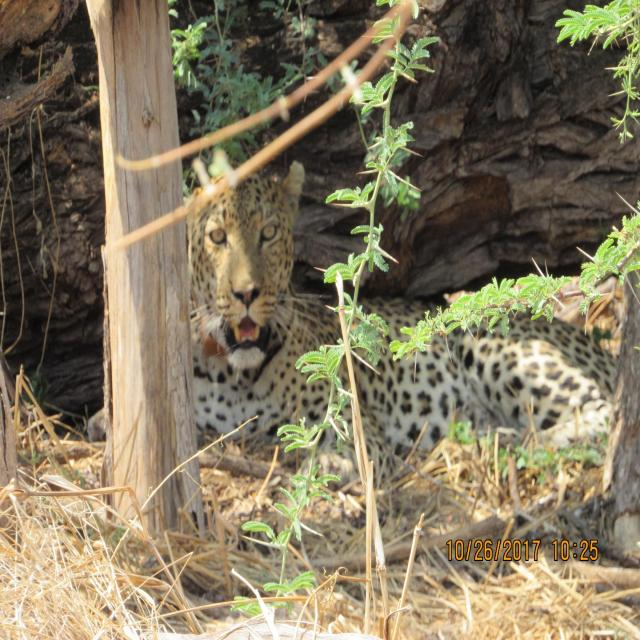Leopard: (106, 152, 640, 485)
